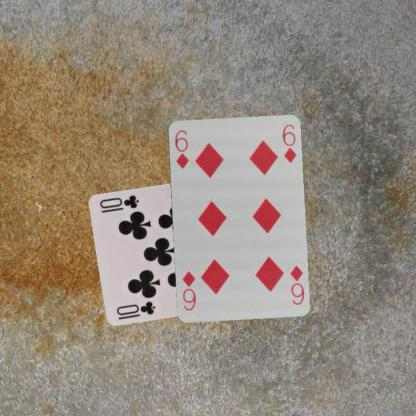10c: (114, 298, 157, 321)
6d: (287, 262, 305, 306), (172, 127, 190, 170)
